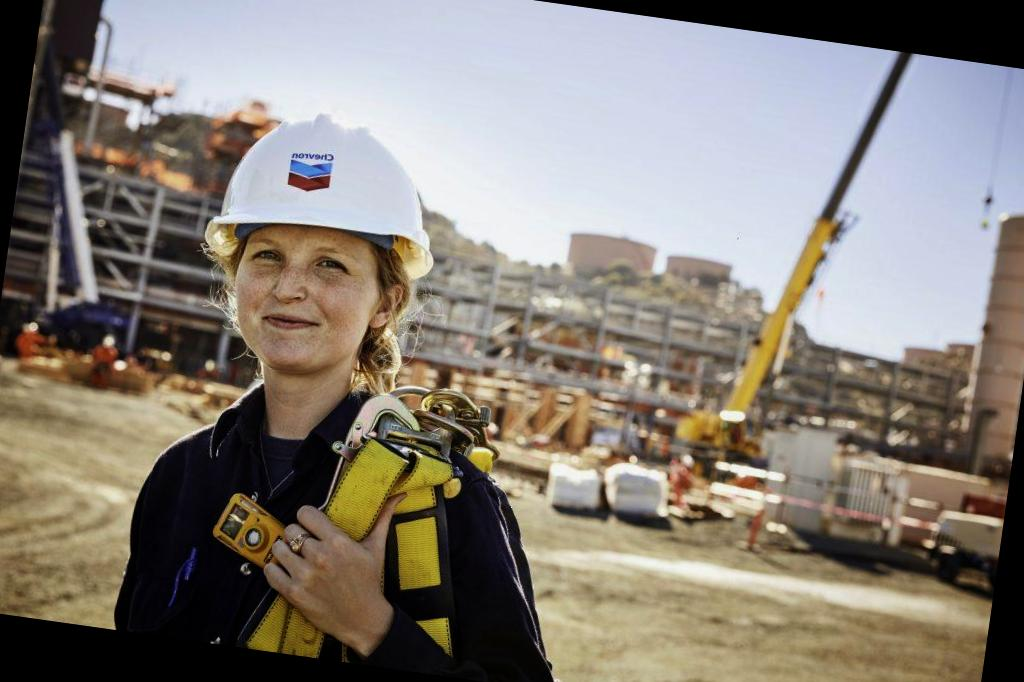helmet: (212, 101, 450, 270)
no_vest: (119, 380, 518, 682)
person: (109, 84, 580, 682)
